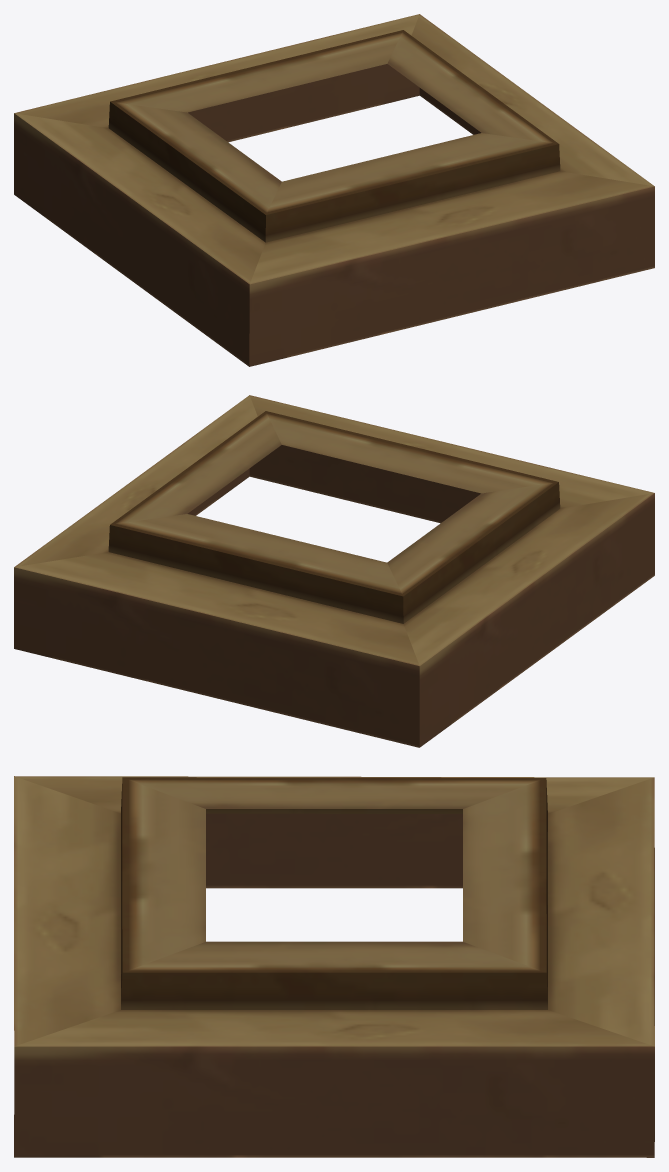
Rendered from bs_pvestairs_1.FBX.
The picture shows the model from 3 angles, top to bottom: view 1: azimuth 30°, elevation 25°; view 2: azimuth 150°, elevation 25°; view 3: azimuth 270°, elevation 25°; orthographic projection. The views are drawn at different scales.
Visible parts, largest first — view 1: bs_pvestairs_01; view 2: bs_pvestairs_01; view 3: bs_pvestairs_01.
Boxes of the visible parts, x1,y1,x2,y2 form: bs_pvestairs_01: [14, 14, 654, 366]; bs_pvestairs_01: [14, 395, 654, 747]; bs_pvestairs_01: [14, 776, 654, 1157].
Bounding box in the file's own units: 144 × 36.98 × 145.
